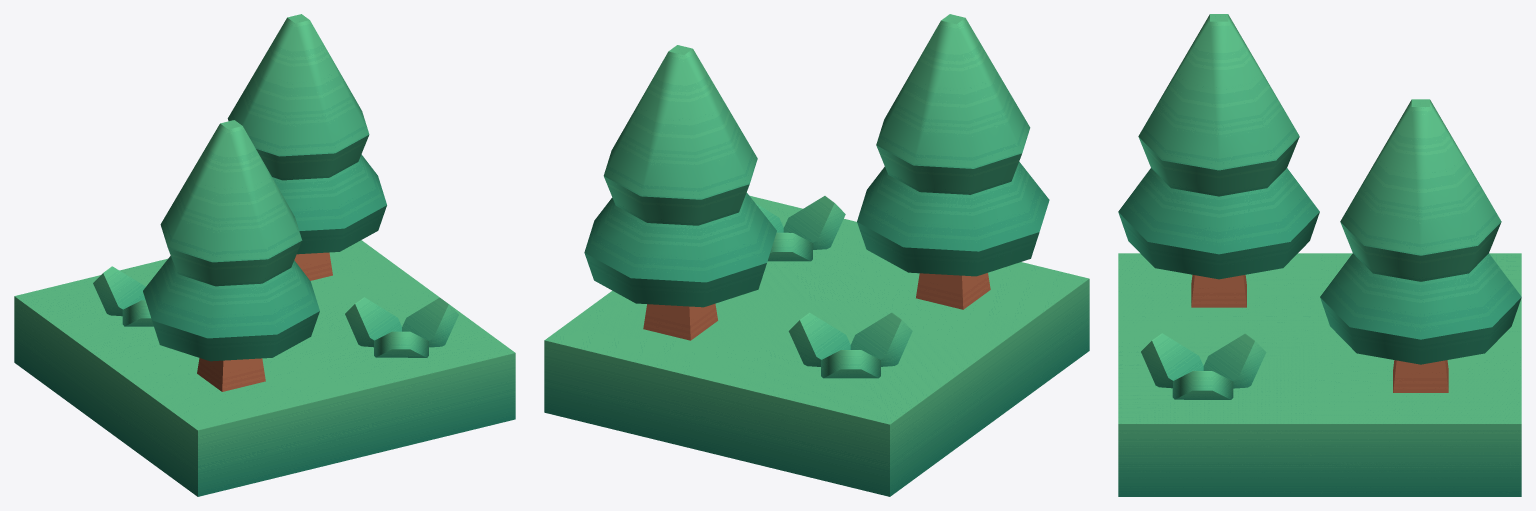
The model's file is tower-defense-kit--tile-tree-double.glb.
3 renders of one model, left to right at view 1: azimuth 30°, elevation 25°; view 2: azimuth 150°, elevation 25°; view 3: azimuth 270°, elevation 25°, orthographic. The views are drawn at different scales.
Visible parts, largest first — view 1: tile-tree-double; view 2: tile-tree-double; view 3: tile-tree-double.
Part boxes in pixels (x1,y1,x2,y2): tile-tree-double: (14,14,515,496); tile-tree-double: (544,14,1089,496); tile-tree-double: (1118,14,1521,496).
Bounding box in the file's own units: 1 × 0.96 × 1.
1 material, 1 textured.
